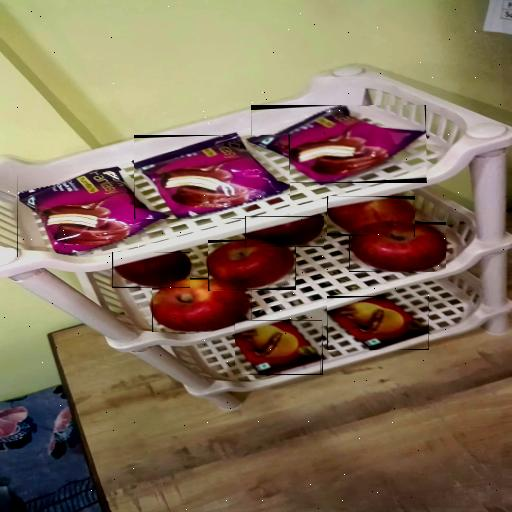Apple: (152, 278, 252, 332), (349, 222, 446, 272), (208, 240, 296, 290), (327, 196, 415, 236), (112, 252, 190, 288), (245, 216, 324, 247)
Choco Fills: (327, 296, 429, 350), (236, 320, 324, 375)
Choco Pie: (252, 105, 428, 183), (134, 135, 290, 219), (17, 169, 165, 257)
